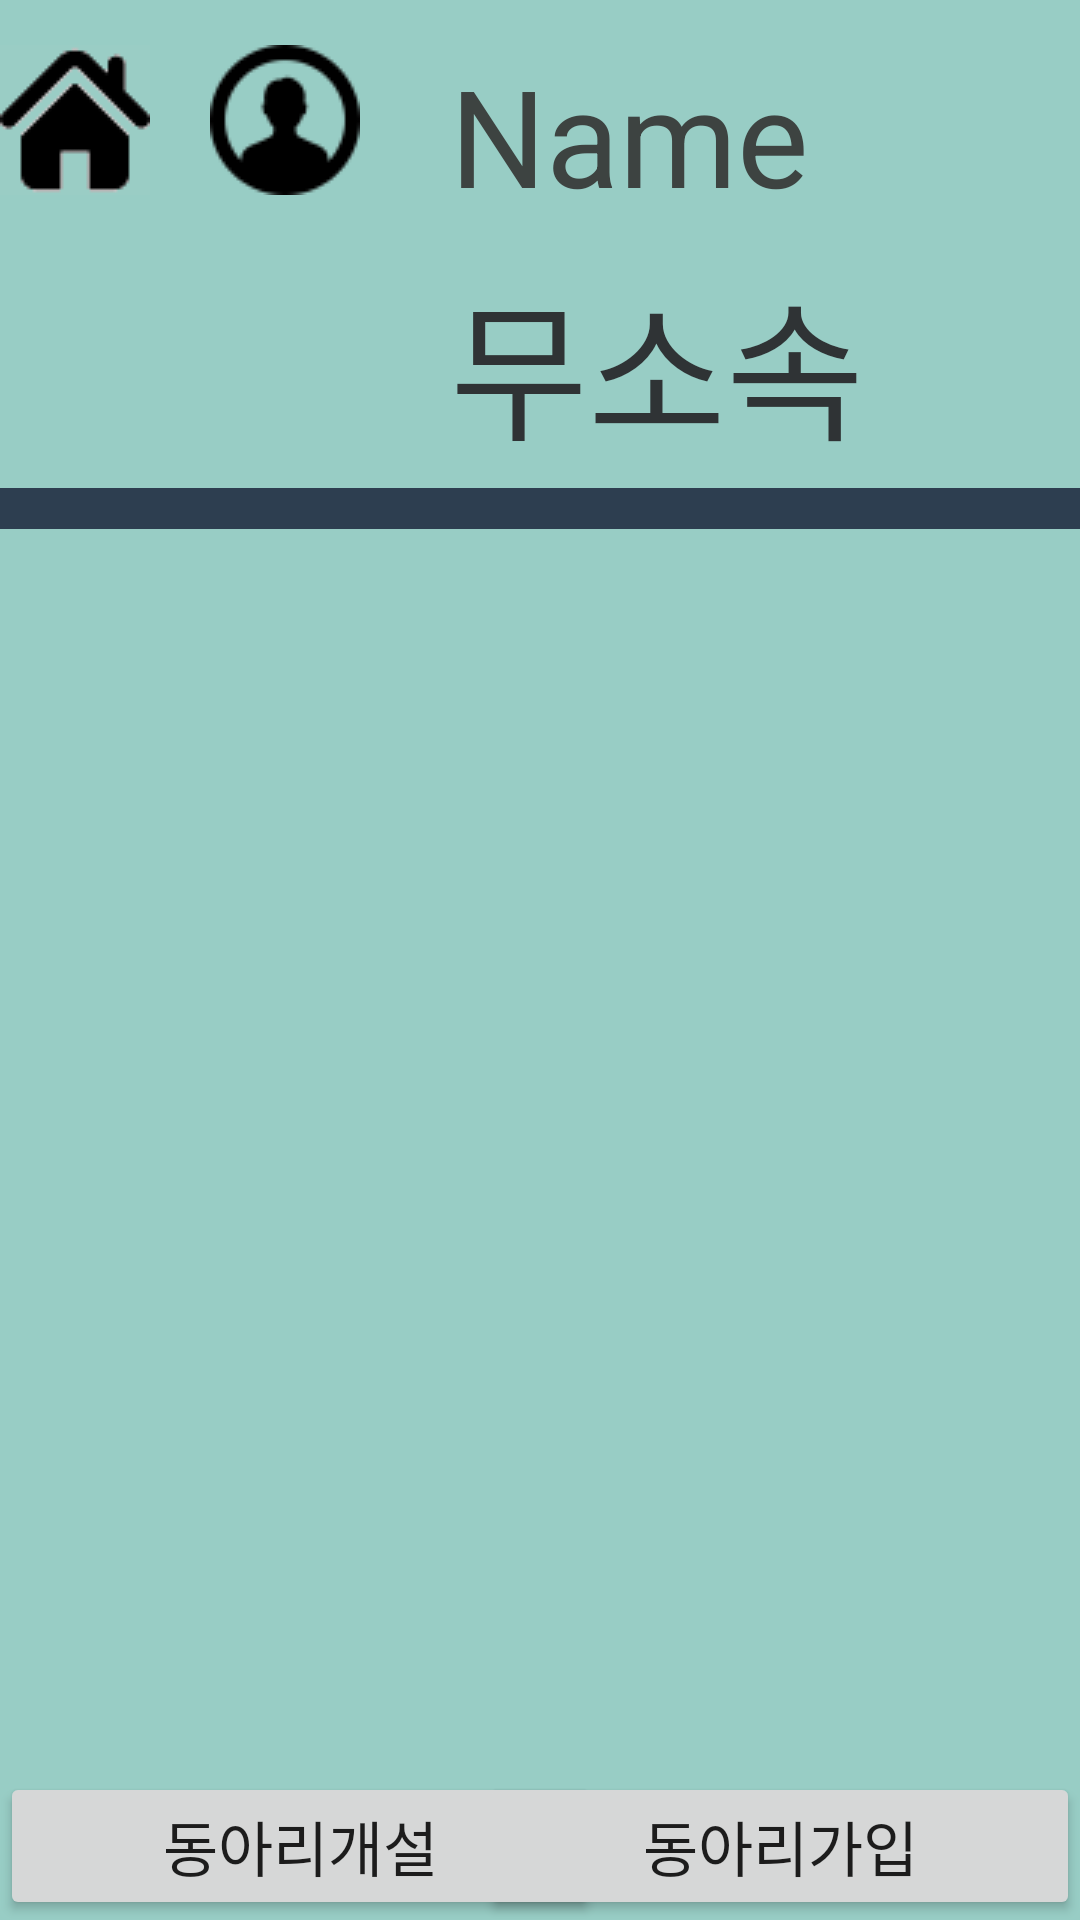

Screen size 1080px×1920px. Icon name, then its center in pixels as point (x, y):
home: point (75, 120)
user: point (285, 120)
